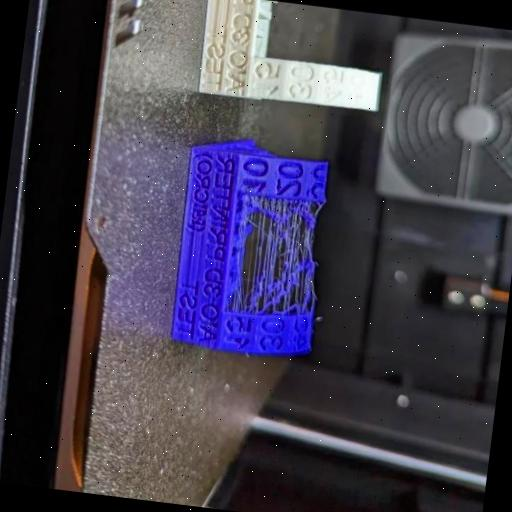stringing: (225, 190, 323, 324)
